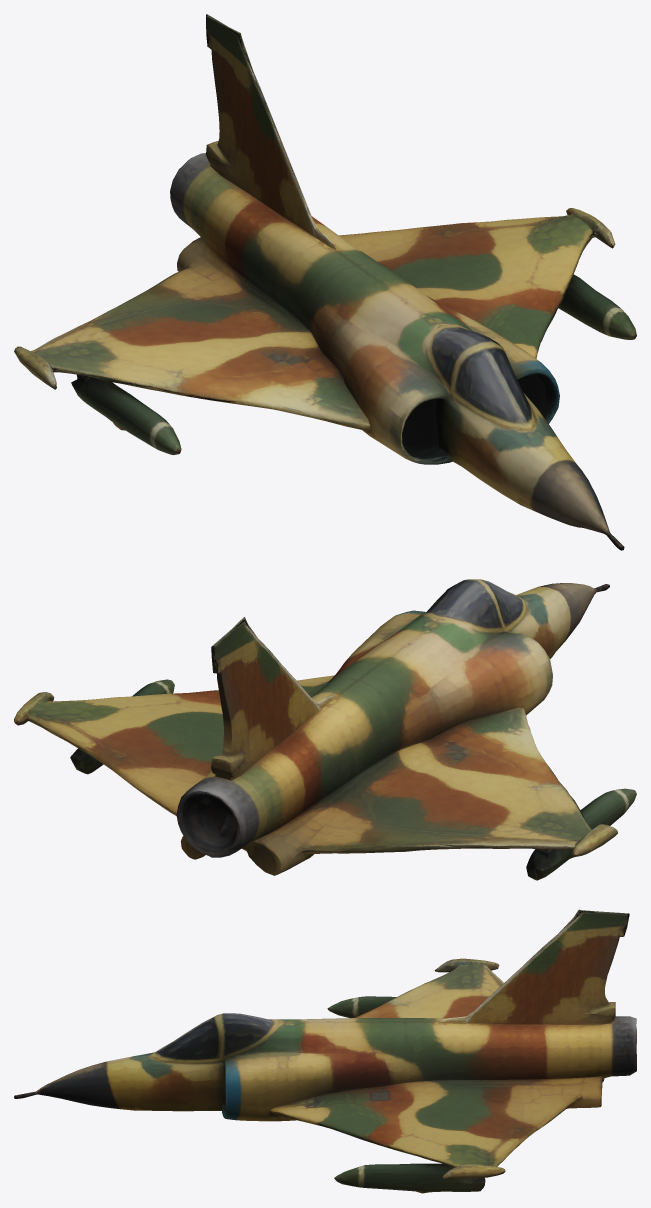
Rendered from unit_jet_mirage.glb.
The picture shows the model from 3 angles, top to bottom: view 1: azimuth 30°, elevation 25°; view 2: azimuth 150°, elevation 25°; view 3: azimuth 270°, elevation 25°; orthographic projection. The views are drawn at different scales.
Parts seen in each view (by area): view 1: geometry_0; view 2: geometry_0; view 3: geometry_0.
Boxes of the visible parts, <box> form: geometry_0: <box>14,14,636,550</box>; geometry_0: <box>14,579,636,880</box>; geometry_0: <box>14,909,636,1193</box>.
Bounding box in the file's own units: 0.442 × 0.1941 × 0.55.
1 material, 1 textured.
